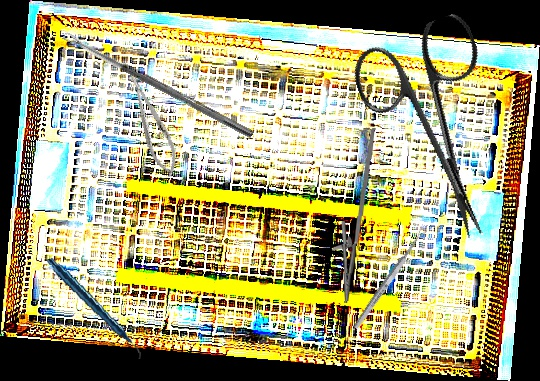Handpiece: (46, 247, 142, 371)
Iris Scissors: (344, 9, 538, 257)
Needle Holder: (329, 126, 377, 305), (121, 68, 185, 182)
Surgical Spoon: (62, 30, 255, 139), (352, 226, 428, 331)
